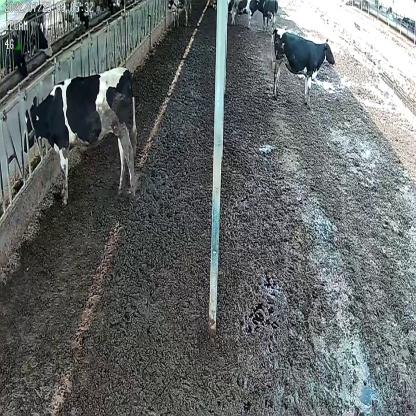cow: (21, 70, 138, 208), (270, 22, 334, 107), (228, 0, 260, 27), (168, 0, 194, 26), (257, 0, 278, 30)
